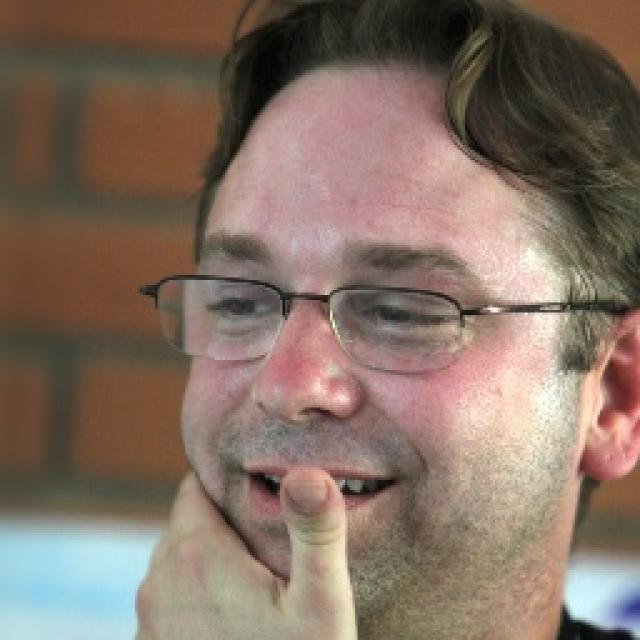glasses: (123, 250, 628, 378)
